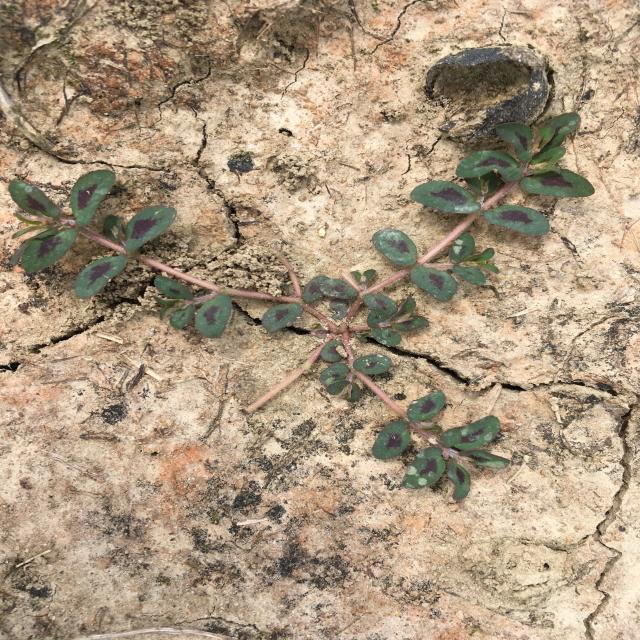SpottedSpurge: (8, 112, 596, 501)
